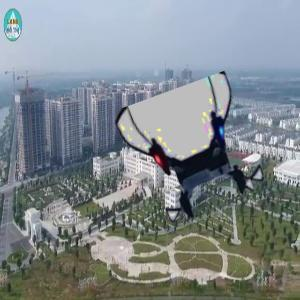drone: (129, 87, 263, 221)
